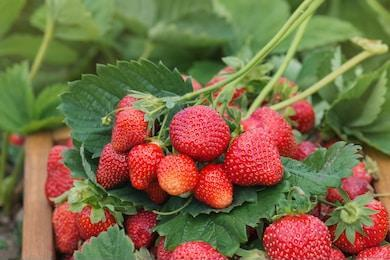Fresa: (221, 125, 287, 193), (326, 189, 390, 257), (166, 102, 234, 166), (257, 207, 334, 260), (188, 158, 243, 212), (122, 136, 166, 194), (151, 151, 203, 200), (108, 102, 154, 154), (72, 194, 120, 243), (93, 137, 133, 191)
